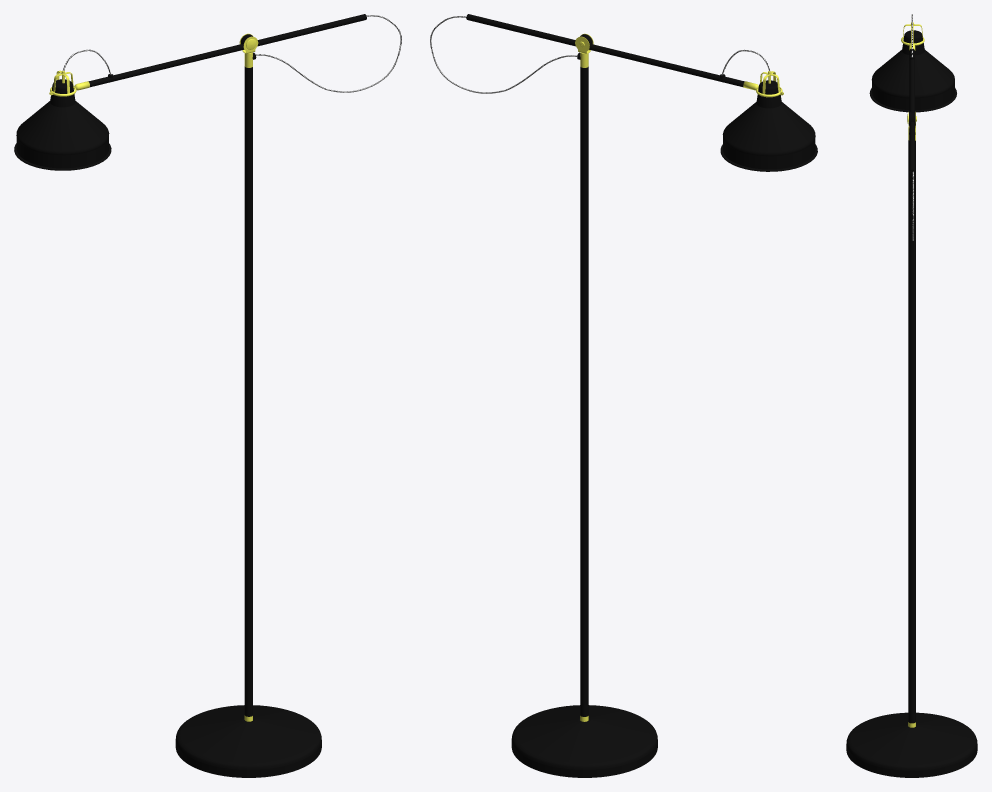
Rendered from RANARP_Floor_Lamp.obj.
3 renders of one model, left to right at view 1: azimuth 30°, elevation 25°; view 2: azimuth 150°, elevation 25°; view 3: azimuth 270°, elevation 25°, orthographic. The views are drawn at different scales.
Visible parts, largest first — view 1: Line010, Cylinder005, Line001, Cylinder001; view 2: Line010, Cylinder005, Line001, Cylinder001; view 3: Line010, Cylinder005, Line001, Cylinder001.
Part boxes in pixels (x1=…): Line010: x1=175, y1=705, x2=321, y2=777; Cylinder005: x1=244, y1=66, x2=252, y2=716; Line001: x1=14, y1=79, x2=111, y2=170; Cylinder001: x1=88, y1=14, x2=366, y2=87; Line010: x1=511, y1=705, x2=657, y2=777; Cylinder005: x1=580, y1=66, x2=588, y2=716; Line001: x1=720, y1=80, x2=817, y2=171; Cylinder001: x1=466, y1=14, x2=744, y2=87; Line010: x1=846, y1=712, x2=977, y2=777; Cylinder005: x1=908, y1=140, x2=915, y2=723; Line001: x1=869, y1=30, x2=956, y2=112; Cylinder001: x1=909, y1=48, x2=914, y2=174.
Size of the model in its own units: 847 by 1564 by 281.
